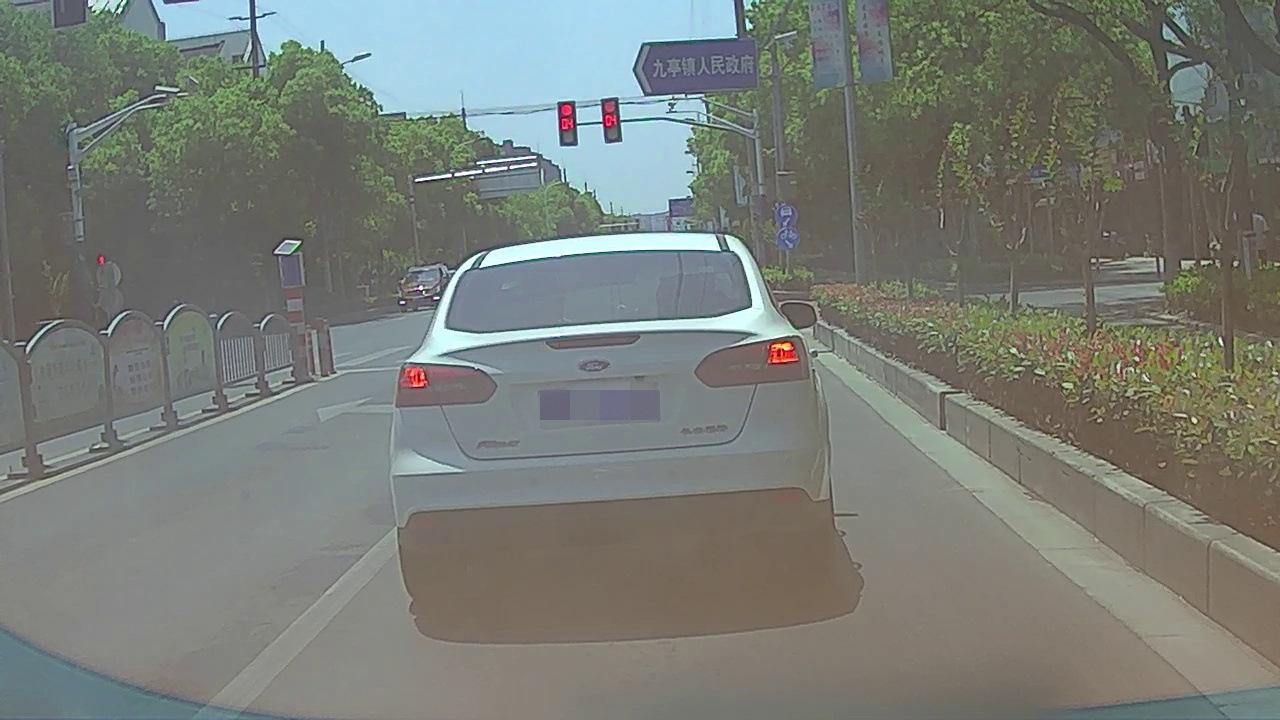traffic_light: (557, 101, 577, 147), (601, 98, 621, 142)
